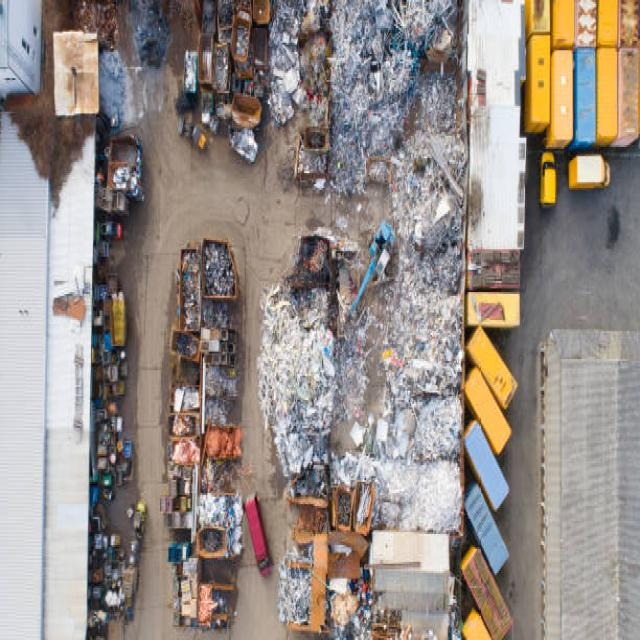metal: (527, 5, 634, 194), (465, 313, 524, 599)
trash: (281, 251, 458, 599), (159, 261, 247, 612), (86, 134, 150, 566), (334, 7, 448, 214), (264, 2, 318, 117)
